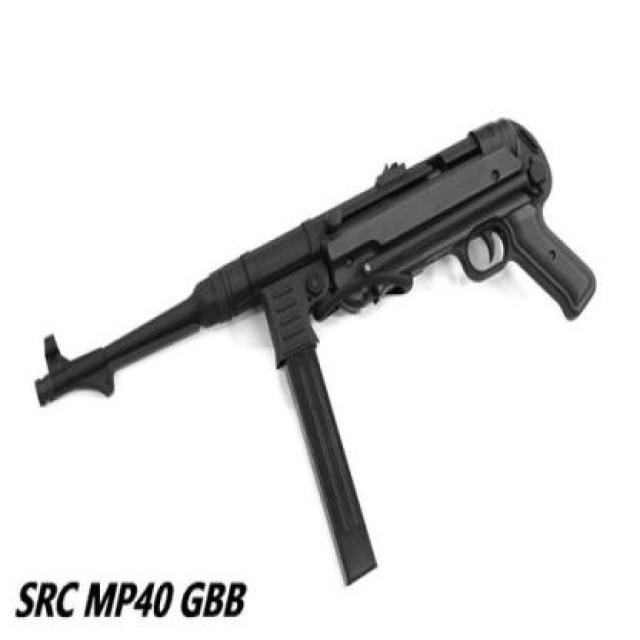weapon: (31, 117, 598, 588)
